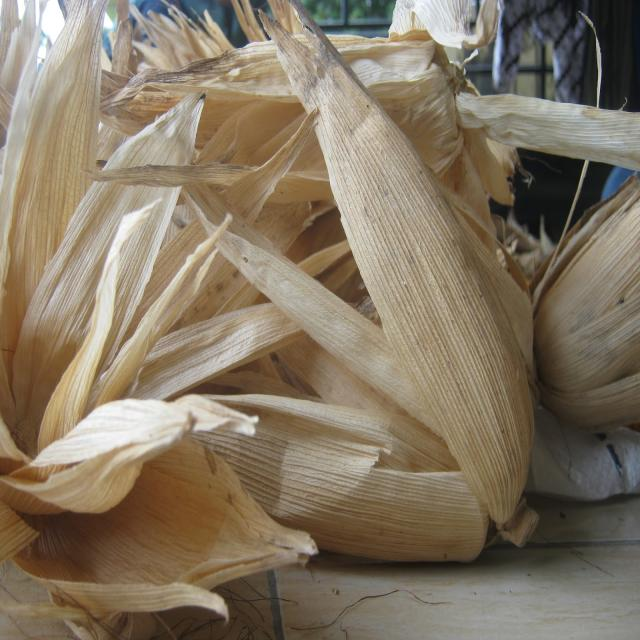Organik: (2, 2, 541, 560)
